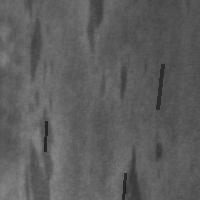inclusion: (22, 60, 60, 198), (23, 1, 56, 90), (119, 141, 144, 200), (82, 1, 107, 59), (150, 128, 166, 177), (115, 62, 132, 101), (155, 62, 164, 111), (120, 171, 127, 200), (43, 119, 48, 153)
